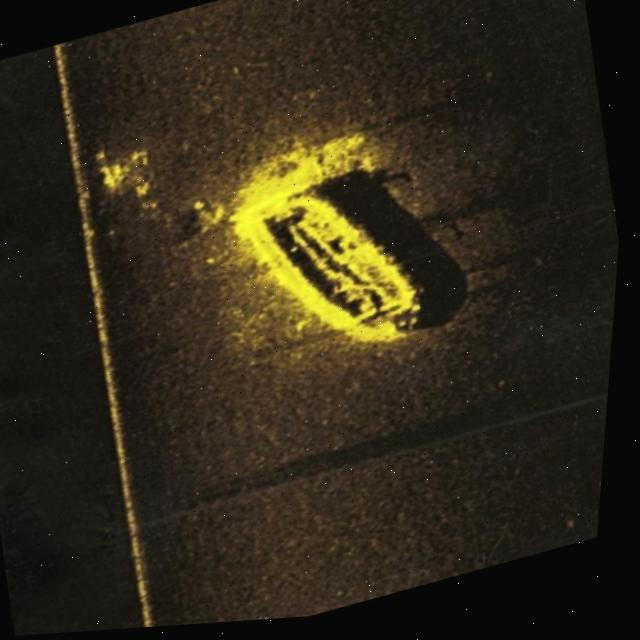shipwreck: (225, 155, 449, 387)
